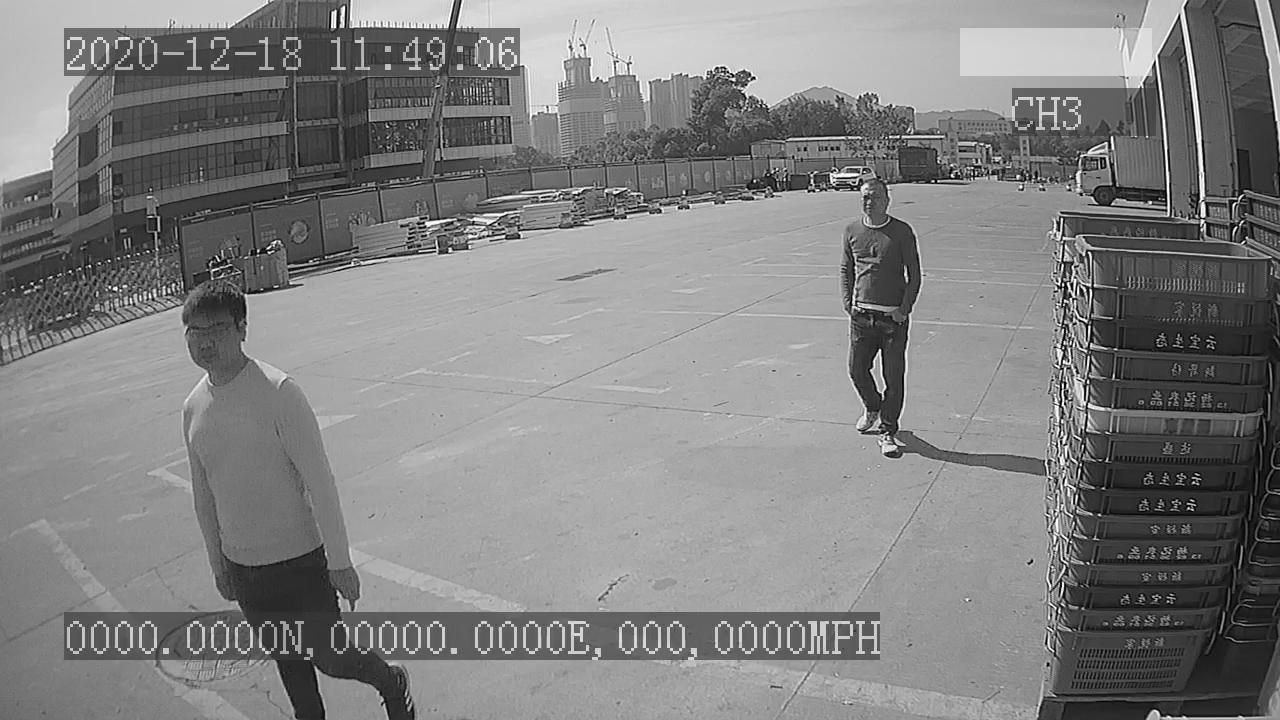person: (836, 176, 927, 460)
